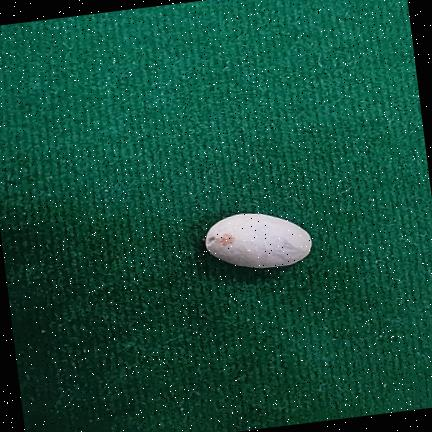husk: (205, 213, 311, 268)
